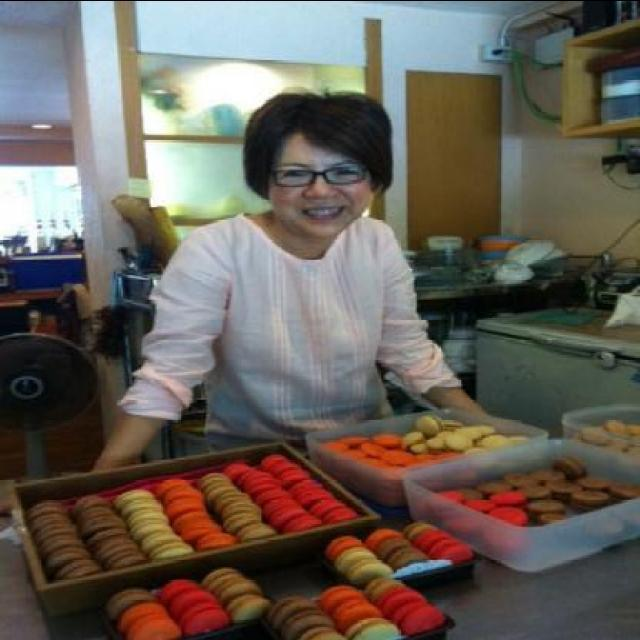Macaron: (20, 411, 638, 638)
